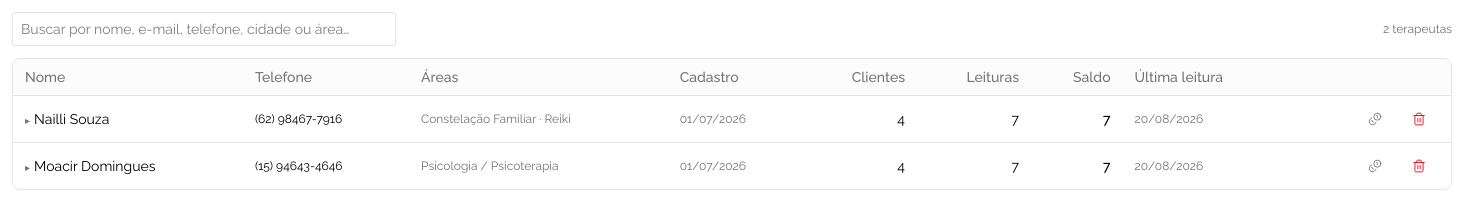
Scenario: TherapistTable — o que a tela mostra sem clicar › a busca filtra por área terapêutica, não só por nome
This screenshot has width=1464, height=207.
Type "psicologia" into the field with placeholder "Buscar por nome, e-mail, telefone, cidade ou área…" at (204, 29), box [12,12,396,46]
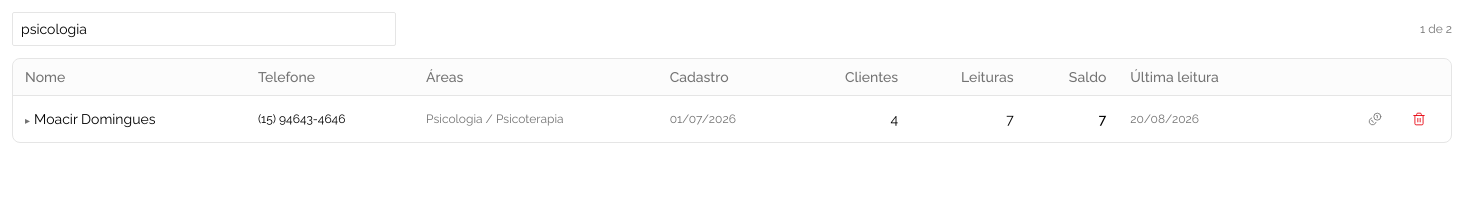
Expected: the text "Moacir Domingues" is shown, [34,111,155,127]
Expected: the text "Nailli Souza" is gone
